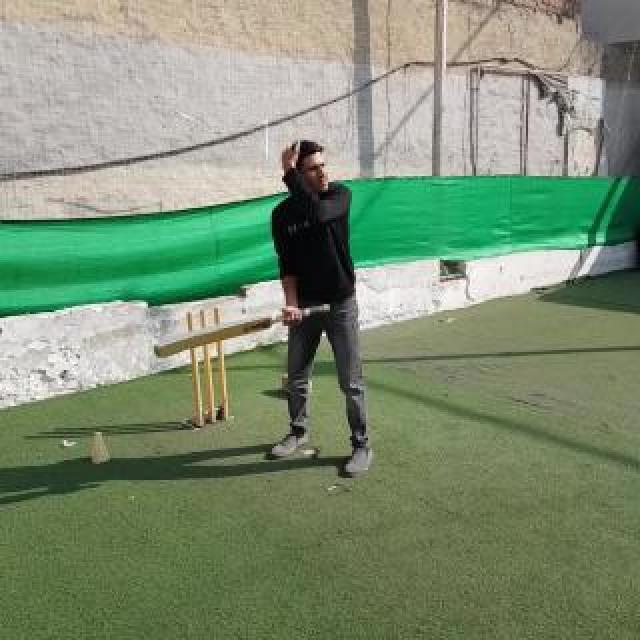bat: (154, 306, 330, 358)
